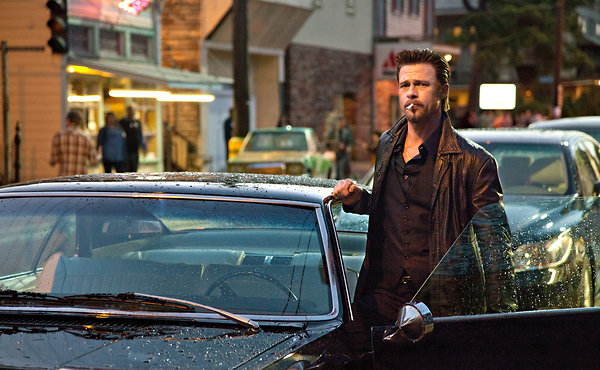cigarette: (404, 100, 415, 111)
